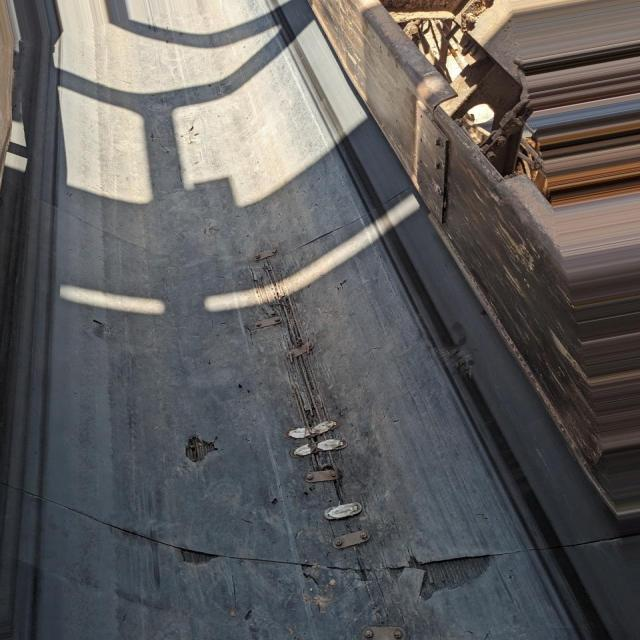Tear: (44, 490, 547, 601), (302, 205, 370, 250), (72, 314, 118, 347), (180, 435, 214, 459)
patch work: (245, 264, 390, 563), (350, 605, 430, 640), (244, 247, 288, 271)
